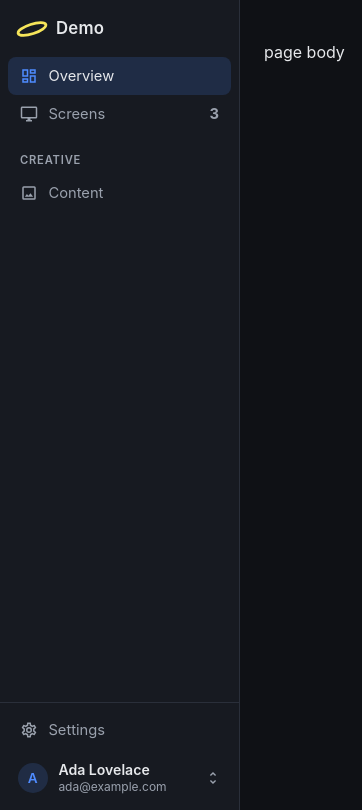
Test: AppShell › opens the account menu, follows a link, and runs an action
Expected: the text "A" is shown, [18, 762, 48, 793]
Click the button "A Ada Lovelace ada@example.com": click(120, 778) [8, 753, 231, 802]
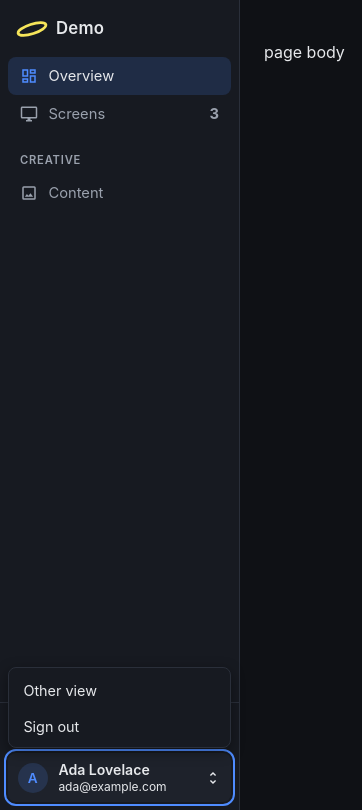
Now the button "A Ada Lovelace ada@example.com" is expanded, box [8, 753, 231, 802]
Click the menu item "Sign out": click(120, 726) [13, 710, 226, 743]
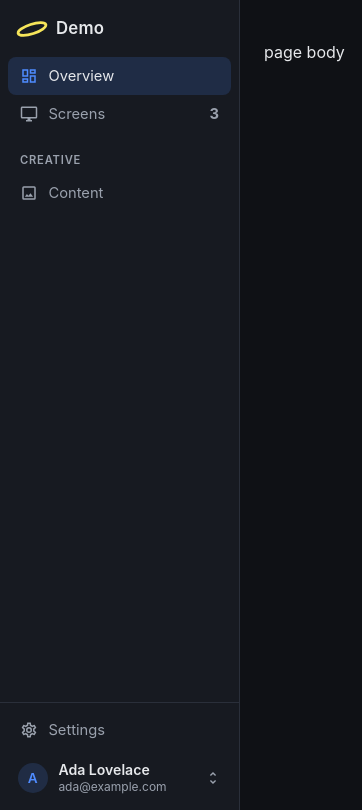
Now the menu is gone
Click the button "A Ada Lovelace ada@example.com": click(120, 778) [8, 753, 231, 802]
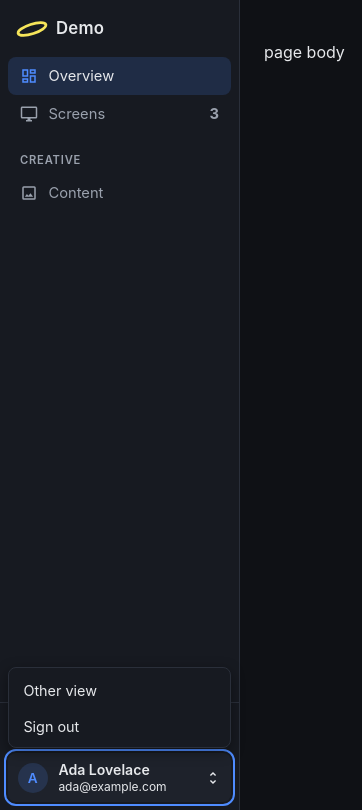
Click the menu item "Other view": click(60, 691) [23, 682, 97, 699]
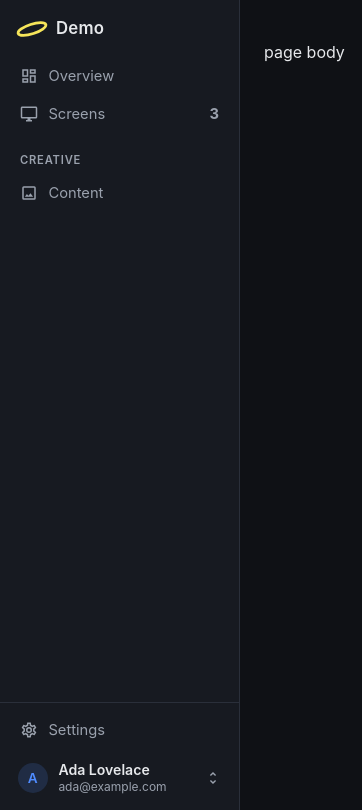
Now the menu is gone
